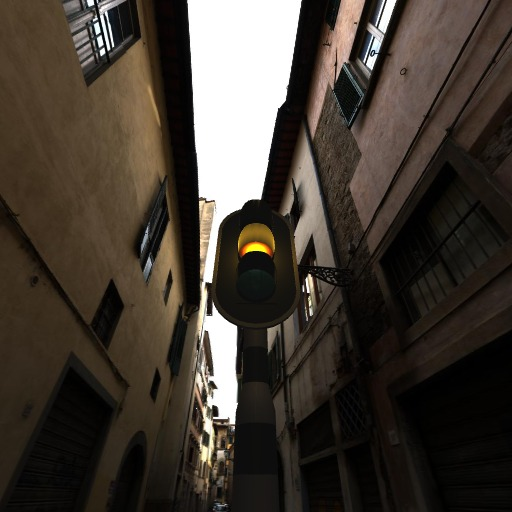Yellow_Light: (209, 196, 307, 332)
